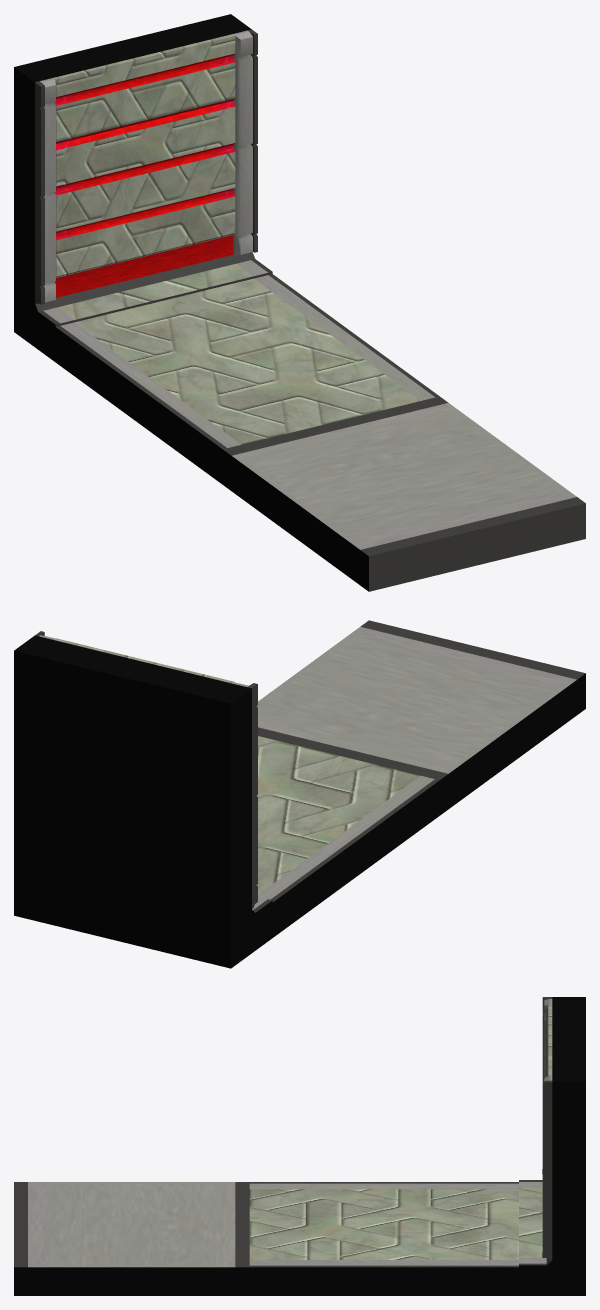
File: Floor.fbx
The picture shows the model from 3 angles, top to bottom: view 1: azimuth 30°, elevation 25°; view 2: azimuth 150°, elevation 25°; view 3: azimuth 270°, elevation 25°; orthographic projection. The views are drawn at different scales.
Parts seen in each view (by area): view 1: Floor_Ceiling; view 2: Floor_Ceiling; view 3: Floor_Ceiling.
Part boxes in pixels (x1=…): Floor_Ceiling: x1=14, y1=14, x2=585, y2=591; Floor_Ceiling: x1=14, y1=620, x2=585, y2=968; Floor_Ceiling: x1=14, y1=997, x2=585, y2=1295.
Bounding box in the file's own units: 6 × 7 × 17.
1 material, 1 textured.
